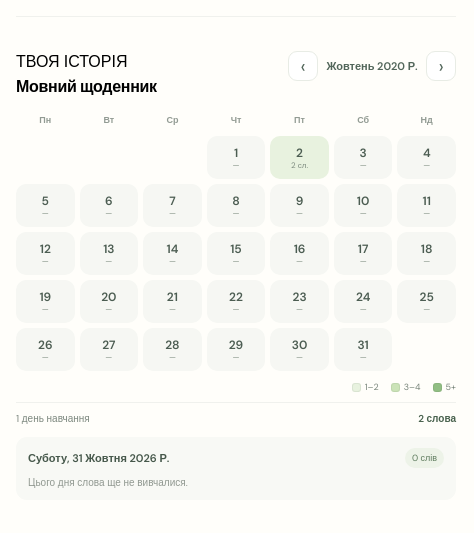
Test: LearningCalendarComponent › displays the words learned on a selected calendar day
The image size is (474, 533).
Click the cell with class "diary-day" showing "2 2 сл.".
click(300, 158)  # box [270,136,329,179]
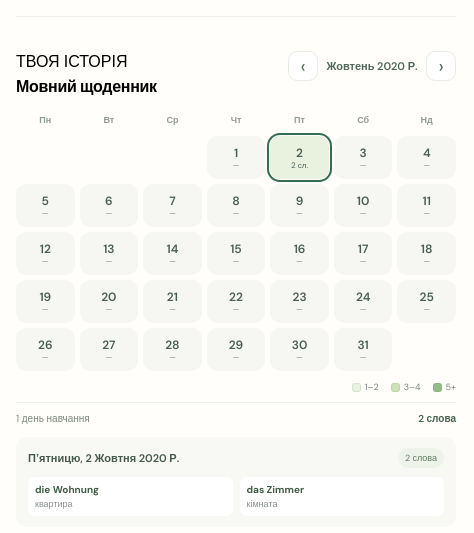
Check: the number of list items is 2, box [28,477,232,516]; [240,477,444,516]
Check: the list with class "diary-word-list" shows "die Wohnung", box [35,483,99,496]
